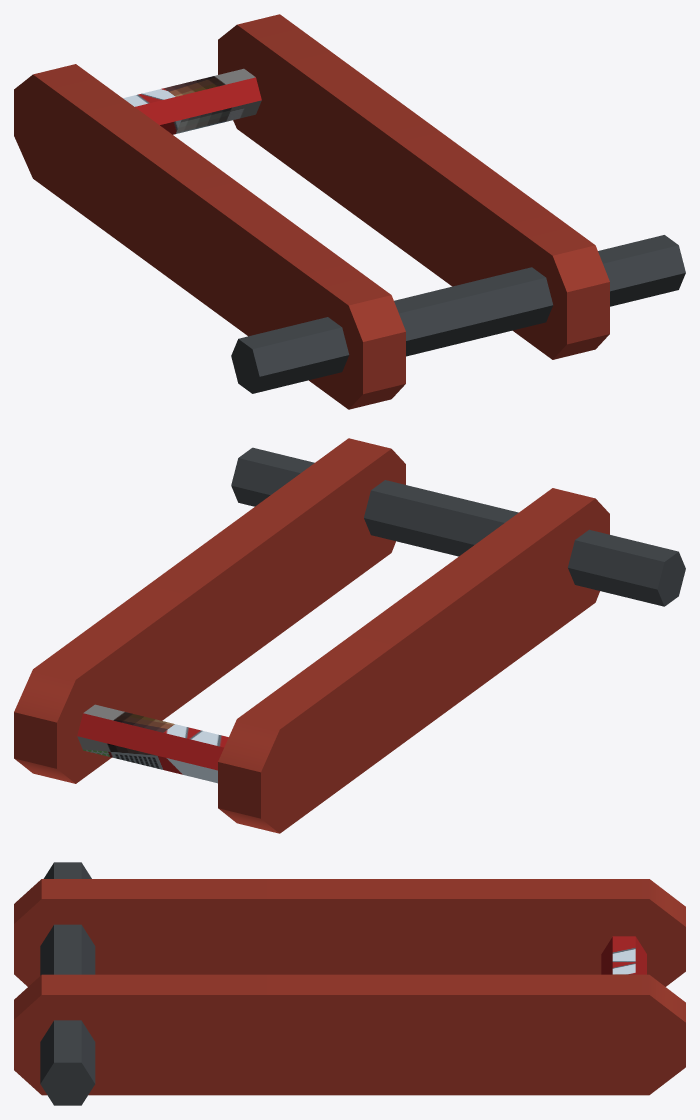
Rendered from SM_Prop_CarJack_Lift_01.fbx.
3 renders of one model, top to bottom at view 1: azimuth 30°, elevation 25°; view 2: azimuth 150°, elevation 25°; view 3: azimuth 270°, elevation 25°, orthographic. The views are drawn at different scales.
Visible parts, largest first — view 1: SM_Prop_CarJack_Lift_01; view 2: SM_Prop_CarJack_Lift_01; view 3: SM_Prop_CarJack_Lift_01.
Boxes of the visible parts, left/top/right/bottom form: SM_Prop_CarJack_Lift_01: left=14, top=14, right=685, bottom=409; SM_Prop_CarJack_Lift_01: left=14, top=438, right=685, bottom=833; SM_Prop_CarJack_Lift_01: left=14, top=862, right=685, bottom=1105.
Size of the model in its own units: 35.18 by 8.22 by 49.88.
